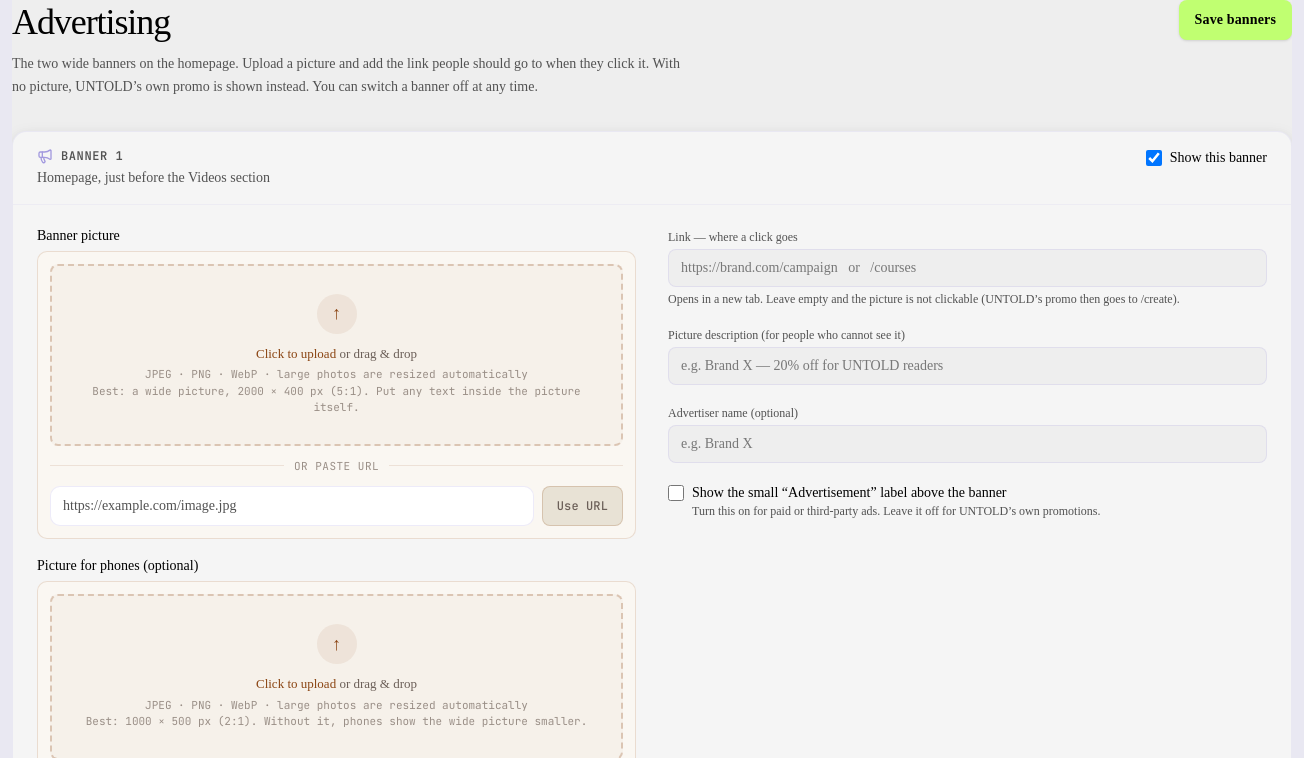
it: BannersForm (Admin → Advertising) › stops showing the preview of a banner that is switched off
The image size is (1304, 758).
Click the checkbox labelled "Show this banner".
click(1154, 158)  # box [1146, 150, 1162, 166]
(page scrolled)
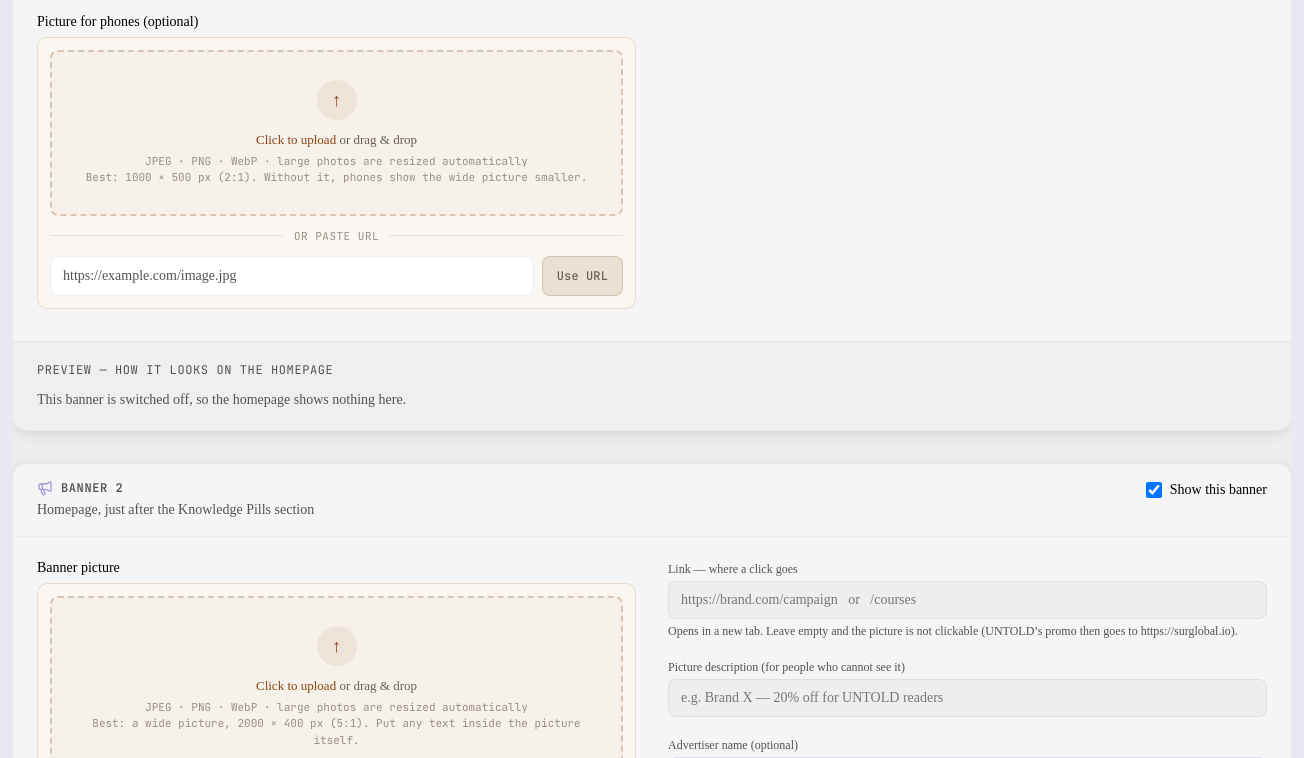
Expected: the text "switched off" is shown, [37, 392, 406, 407]
